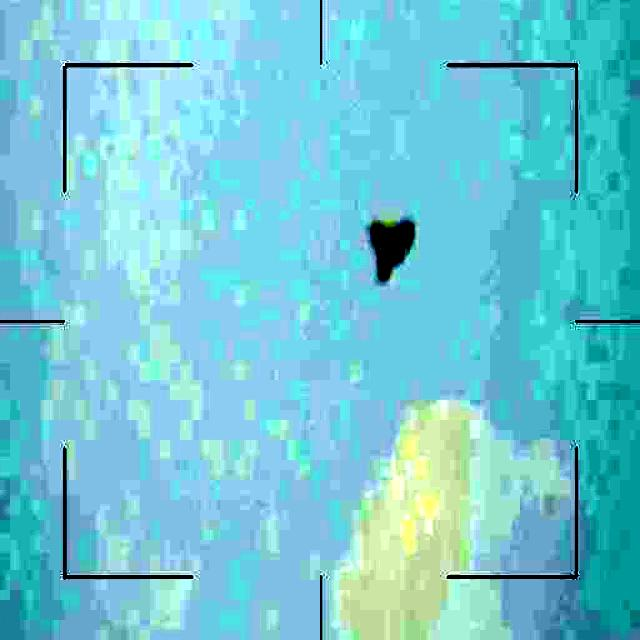bird: (368, 215, 418, 286)
